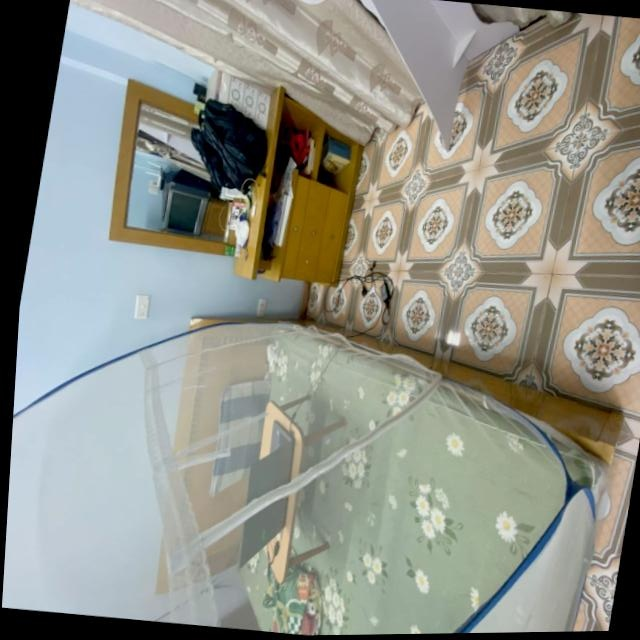outlet: (256, 299, 267, 318)
